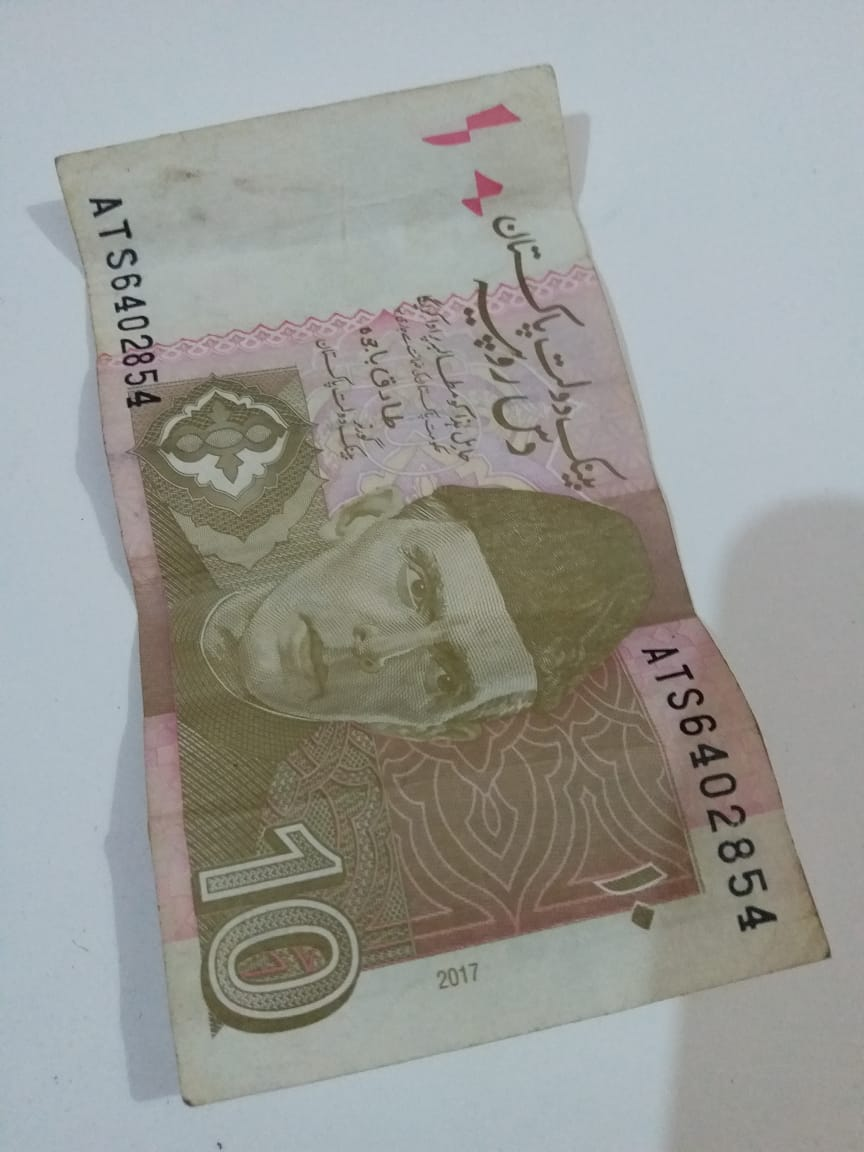10 rupee: (67, 61, 822, 1105)
